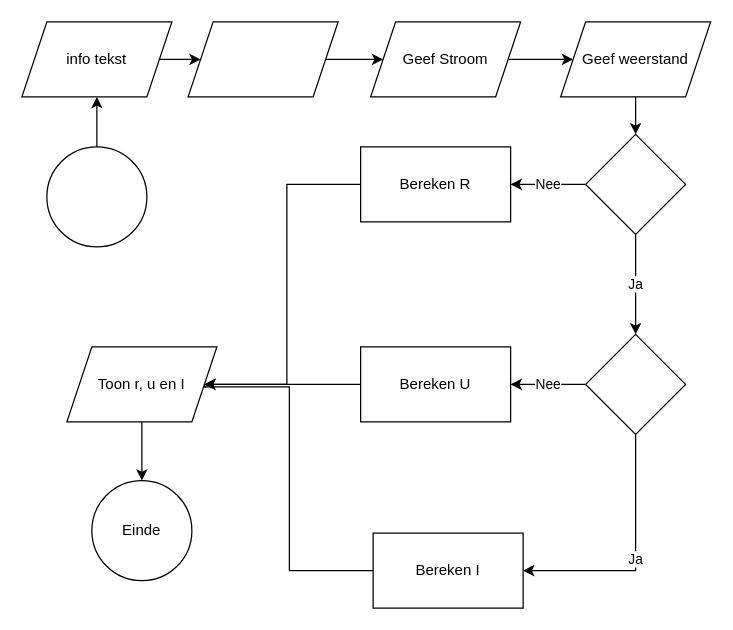
The diagram is 733 pixels wide and 630 high, and some of its shapes have lost their labels. The shapes that lost their labels are listed below. From the top down, each one's centre as x and y in pixels, then its label:
pixel 262 59: Geef spanning
pixel 96 196: Start
pixel 635 183: R aanwezig?
pixel 635 383: U aanwezig?
